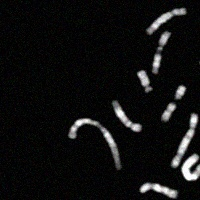chromosome: (67, 119, 120, 169), (170, 114, 197, 167), (146, 7, 186, 34), (149, 30, 170, 73), (111, 101, 141, 131), (138, 183, 177, 199), (180, 153, 200, 182), (137, 70, 152, 92), (160, 103, 175, 120), (175, 86, 185, 100), (199, 7, 200, 66)
